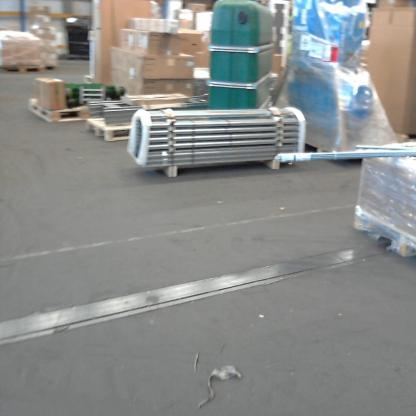pallet: (82, 107, 202, 147), (21, 90, 112, 140), (350, 206, 415, 266), (1, 63, 44, 82), (35, 61, 55, 71)
